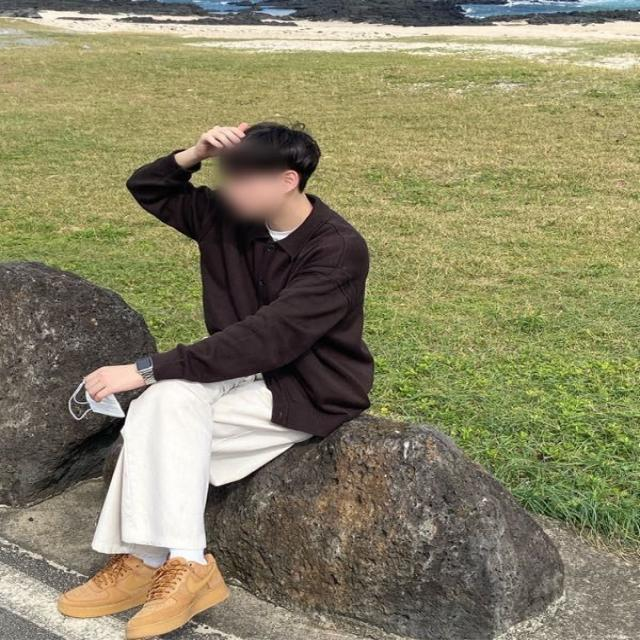cardigan: (124, 146, 376, 440)
cottonpants: (93, 366, 321, 558)
